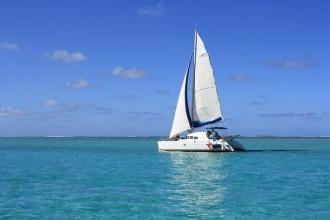fanchuan: (150, 33, 248, 154)
